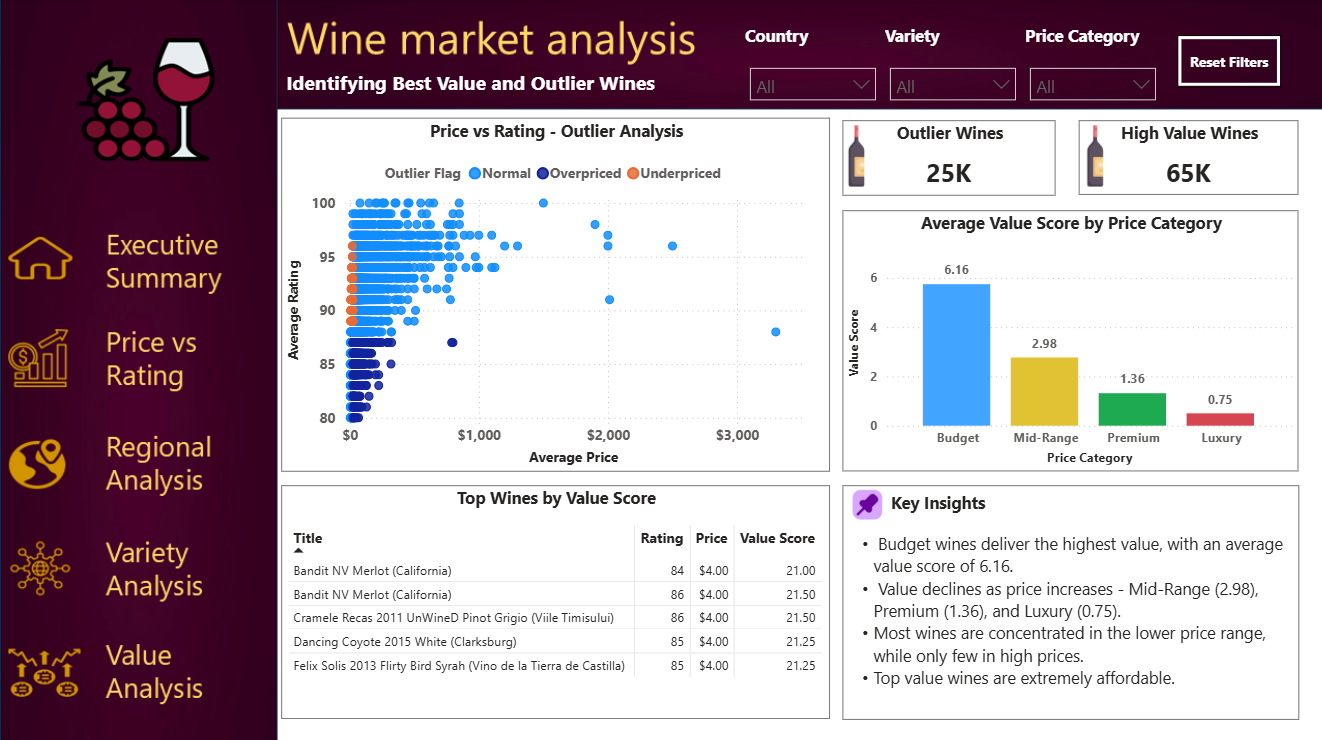

This screenshot's page, from the dashboard's own definition file:
{"tool":"powerbi","page":{"name":"Value Analysis","canvas":[1280,720],"ordinal":4},"visuals":[{"type":"actionButton","title":"Reset Filters","box":[1136.7,34.8,100.2,50.1],"z":0},{"type":"slicer","title":"Country","fields":{"Values":["wine_data wine_insight.country"]},"box":[719,24.1,135.1,77.2],"z":1000},{"type":"slicer","title":"Variety","fields":{"Values":["wine_data wine_insight.variety"]},"box":[854.2,24.1,135.1,77.2],"z":2000},{"type":"slicer","title":"Price Category","fields":{"Values":["wine_data wine_insight.price_category"]},"box":[989.3,24.1,135.1,77.2],"z":3000},{"type":"tableEx","title":"Top Wines by Value Score","fields":{"Values":["wine_data wine_insight.title","wine_data wine_insight.points","wine_data wine_insight.price","wine_data wine_insight.Value Score"]},"box":[271.4,469.3,529.6,225.6],"z":4000},{"type":"scatterChart","title":"Price vs Rating - Outlier Analysis","fields":{"X":["Avg(wine_data wine_insight.price)"],"Y":["Avg(wine_data wine_insight.points)"],"Category":["wine_data wine_insight.id"],"Series":["wine_data wine_insight.Outlier Flag"]},"box":[271.4,114.6,529.6,341.4],"z":5000},{"type":"clusteredColumnChart","title":"Average Value Score by Price Category","fields":{"Category":["wine_data wine_insight.price_category"],"Y":["wine_data wine_insight.Value Score"]},"box":[813.1,203.9,440.4,252.1],"z":6000},{"type":"card","title":"High Value Wines","fields":{"Values":["wine_data wine_insight.High Value Wines"]},"box":[1041.2,117,212.3,72.4],"z":7000},{"type":"card","title":"Outlier Wines","fields":{"Values":["wine_data wine_insight.Outlier Wines"]},"box":[813.7,116.6,205.8,72.7],"z":8000},{"type":"textbox","box":[813.7,469.3,440.5,226.4],"z":9000},{"type":"textbox","box":[271.7,63.1,392.5,38.4],"z":10000},{"type":"image","box":[822,469.3,31.4,37.4],"z":11000},{"type":"image","box":[786.3,122.1,79.6,59.1],"z":12000},{"type":"image","box":[1017,121.9,79.6,59.1],"z":13000},{"type":"actionButton","box":[0,306.1,268.5,80.7],"z":13001},{"type":"actionButton","box":[0,403.5,268.5,80.7],"z":13002},{"type":"actionButton","box":[0,512,268.5,80.7],"z":13003},{"type":"actionButton","box":[0,610.8,268.5,80.7],"z":13004},{"type":"actionButton","box":[0,214.3,268.5,80.7],"z":13005}]}

Visuals, with their boxes on the page's 1280x720 design canvas (x1, y1, x2, y2). These are canvas units, not pixel positions in the 1322x740 screenshot, which may show the page scaled, cropped or inside an application window:
"Reset Filters" actionButton: bbox=[1137, 35, 1237, 85]
"Country" slicer: bbox=[719, 24, 854, 101]
"Variety" slicer: bbox=[854, 24, 989, 101]
"Price Category" slicer: bbox=[989, 24, 1124, 101]
"Top Wines by Value Score" tableEx: bbox=[271, 469, 801, 695]
"Price vs Rating - Outlier Analysis" scatterChart: bbox=[271, 115, 801, 456]
"Average Value Score by Price Category" clusteredColumnChart: bbox=[813, 204, 1254, 456]
"High Value Wines" card: bbox=[1041, 117, 1254, 189]
"Outlier Wines" card: bbox=[814, 117, 1020, 189]
textbox: bbox=[814, 469, 1254, 696]
textbox: bbox=[272, 63, 664, 102]
image: bbox=[822, 469, 853, 507]
image: bbox=[786, 122, 866, 181]
image: bbox=[1017, 122, 1097, 181]
actionButton: bbox=[0, 306, 268, 387]
actionButton: bbox=[0, 404, 268, 484]
actionButton: bbox=[0, 512, 268, 593]
actionButton: bbox=[0, 611, 268, 692]
actionButton: bbox=[0, 214, 268, 295]
